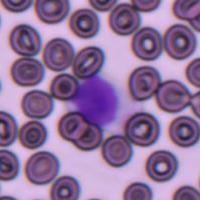L: (68, 71, 122, 127)
